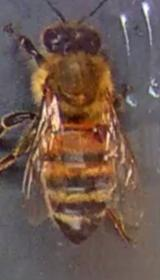varroa_mite: (86, 119, 110, 145)
